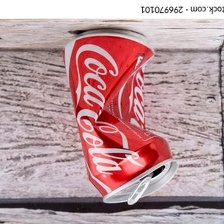can: (63, 26, 179, 207)
